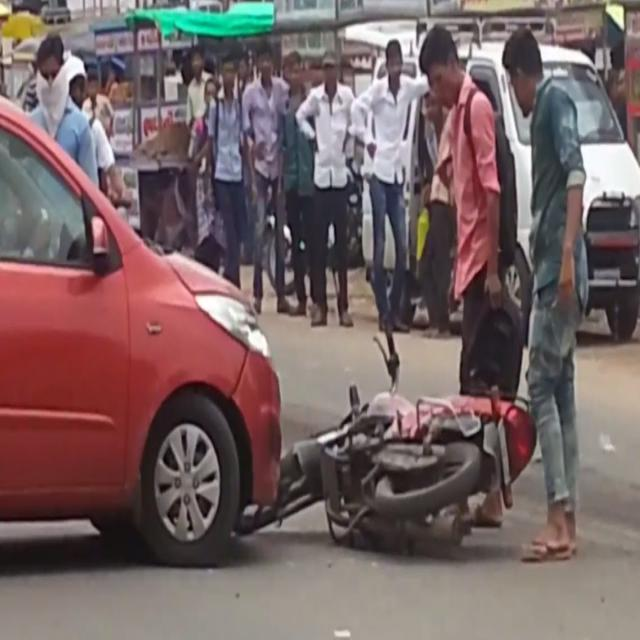accident: (278, 313, 536, 551)
car: (0, 98, 281, 563)
